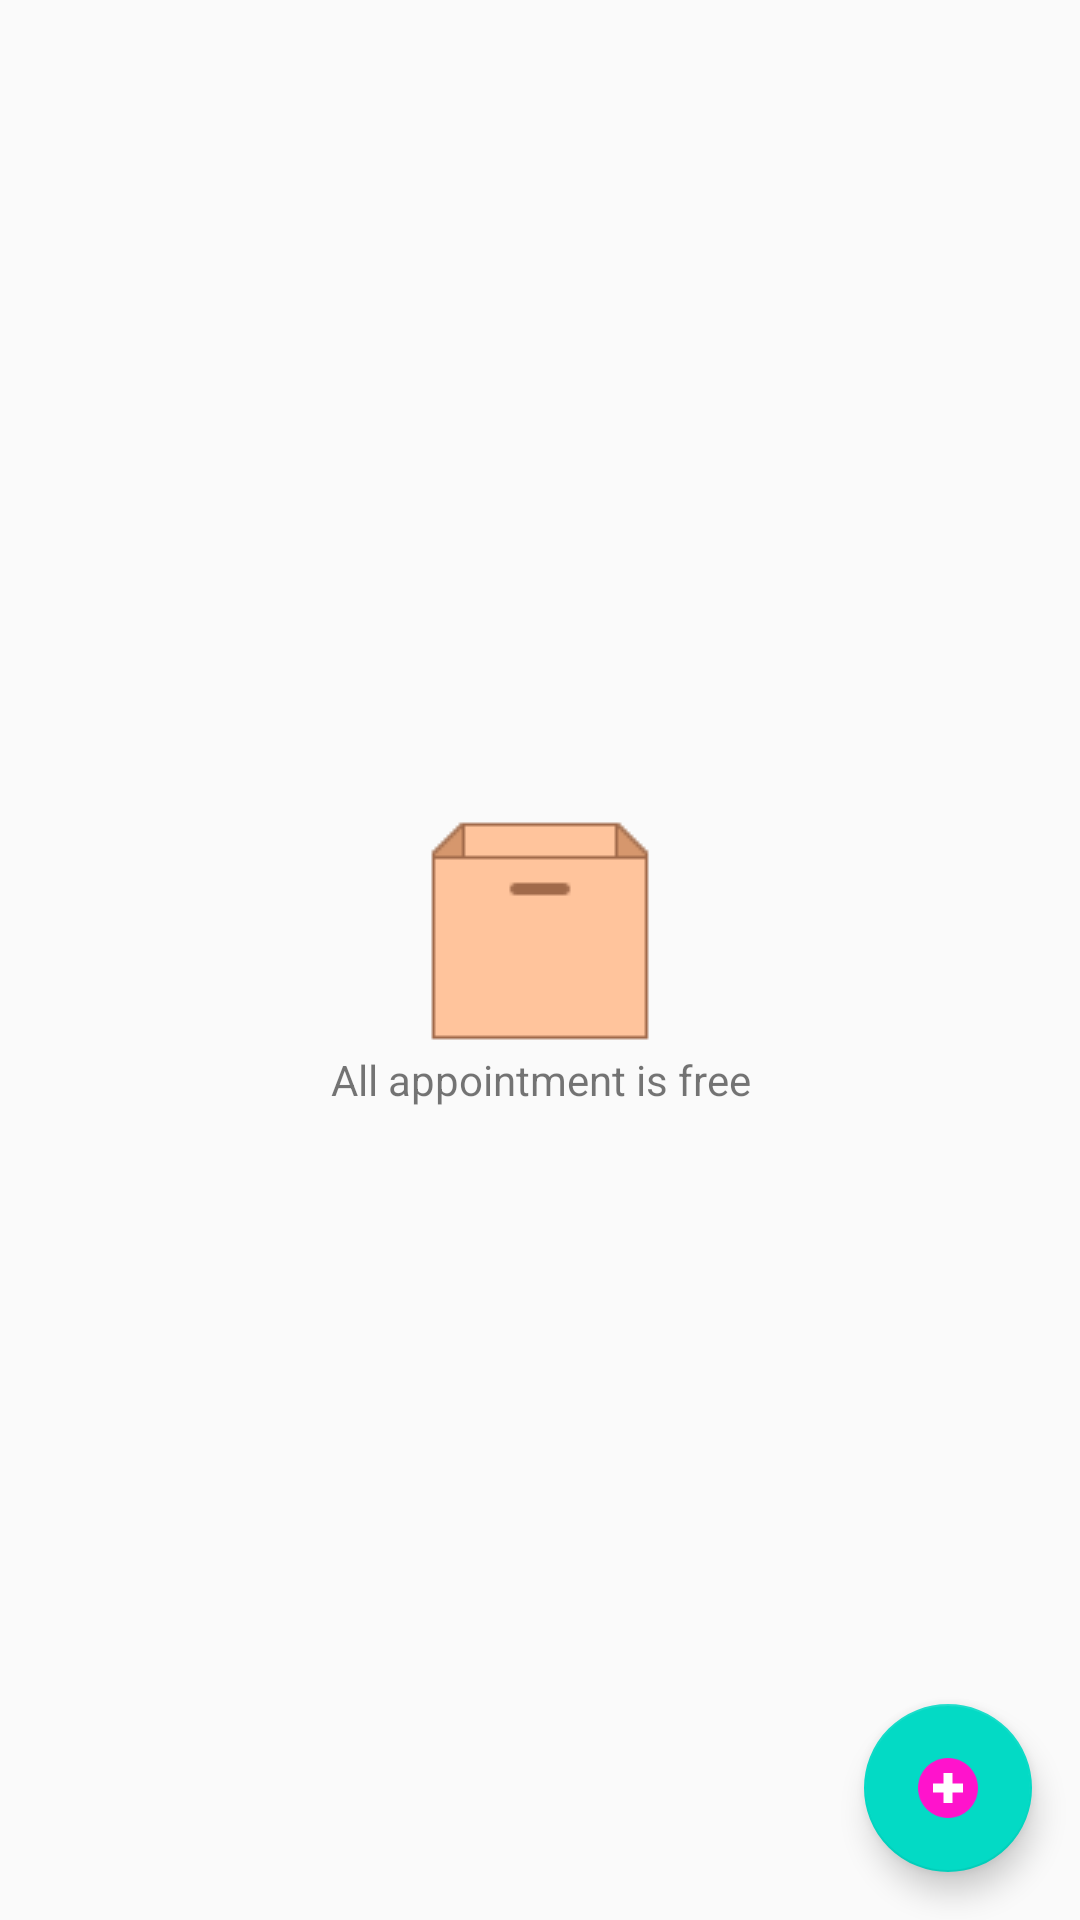

Where to tap for icons on this 1080*1920 app screen, as point (x, y):
empty appointment: point (540, 931)
plusbink: point (948, 1788)
